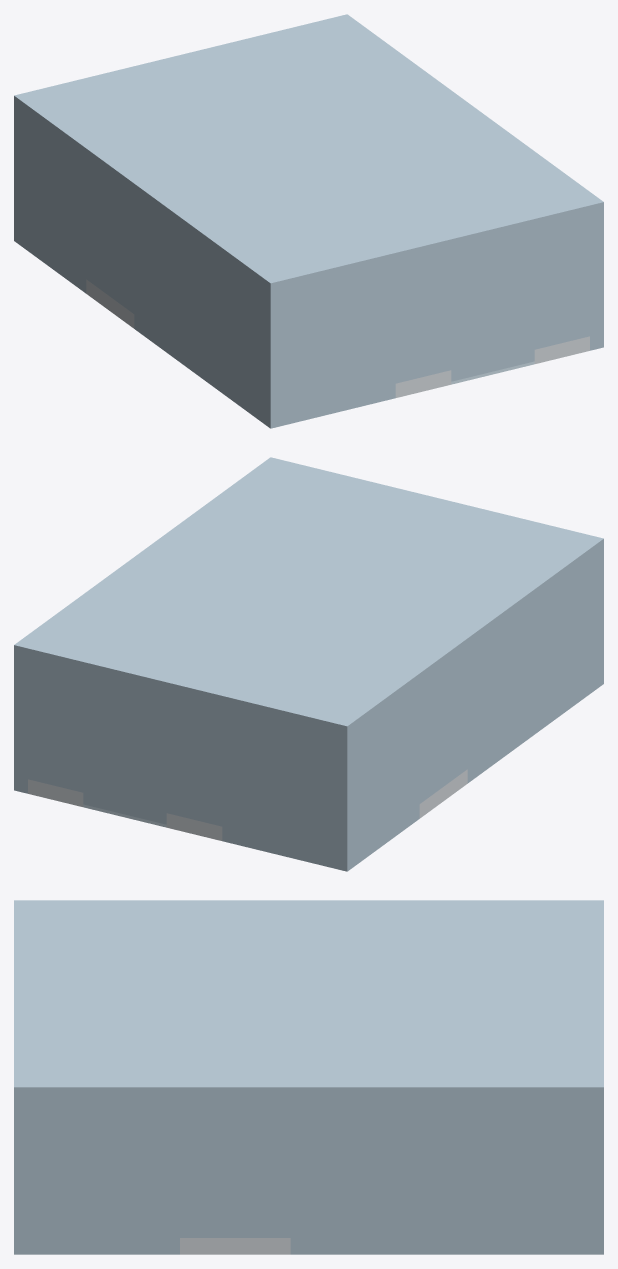
The model's file is frozen-cavern.glb.
3 views of the same model, one above another, from view 1: azimuth 30°, elevation 25°; view 2: azimuth 150°, elevation 25°; view 3: azimuth 270°, elevation 25° (orthographic). The views are drawn at different scales.
Visible parts, largest first — view 1: ice-rock_20, plug_frozen_south, ice-rock_7, plug_ice_west, ice-rock_8, ice-rock_9, ice-rock_12, ice-rock_10, ice-rock_14, ice-rock_6, ice-rock_4, ice-rock_5 (+7 smaller); view 2: ice-rock_20, plug_frozen_north, ice-rock_7, ice-rock_1, plug_ice_west, ice-rock_13, ice-rock_4, ice-rock_3, ice-rock_5, ice-rock_6, ice-rock_2, ice-rock_18 (+4 smaller); view 3: ice-rock_20, ice-rock_2, ice-rock_11, plug_ice_east, ice-rock_19, snow_11.
Part boxes in pixels (x1,y1,x2,y2): ice-rock_20: (14, 14, 603, 297); plug_frozen_south: (395, 234, 589, 383); ice-rock_7: (134, 198, 284, 428); plug_ice_west: (86, 192, 134, 313); ice-rock_8: (284, 288, 312, 424); ice-rock_9: (312, 281, 339, 418); ice-rock_12: (368, 267, 395, 404); ice-rock_10: (340, 274, 367, 411); ice-rock_14: (395, 220, 589, 281); ice-rock_6: (70, 151, 86, 293); ice-rock_4: (38, 128, 53, 269); ice-rock_5: (54, 139, 69, 281); ice-rock_20: (14, 457, 603, 740); plug_frozen_north: (28, 677, 222, 826); ice-rock_7: (467, 553, 603, 783); ice-rock_1: (222, 710, 355, 871); plug_ice_west: (419, 682, 467, 803); ice-rock_13: (28, 663, 222, 724); ice-rock_4: (371, 712, 387, 853); ice-rock_3: (355, 724, 371, 865); ice-rock_5: (387, 700, 403, 841); ice-rock_6: (403, 688, 419, 829); ice-rock_2: (14, 659, 27, 793); ice-rock_18: (419, 653, 467, 716); ice-rock_20: (14, 900, 603, 1103); ice-rock_2: (290, 1104, 603, 1254); ice-rock_11: (14, 1104, 179, 1254); plug_ice_east: (180, 1137, 290, 1237); ice-rock_19: (180, 1104, 290, 1137); snow_11: (180, 1238, 290, 1254).
Size of the model in its own units: 12 by 5 by 16.
